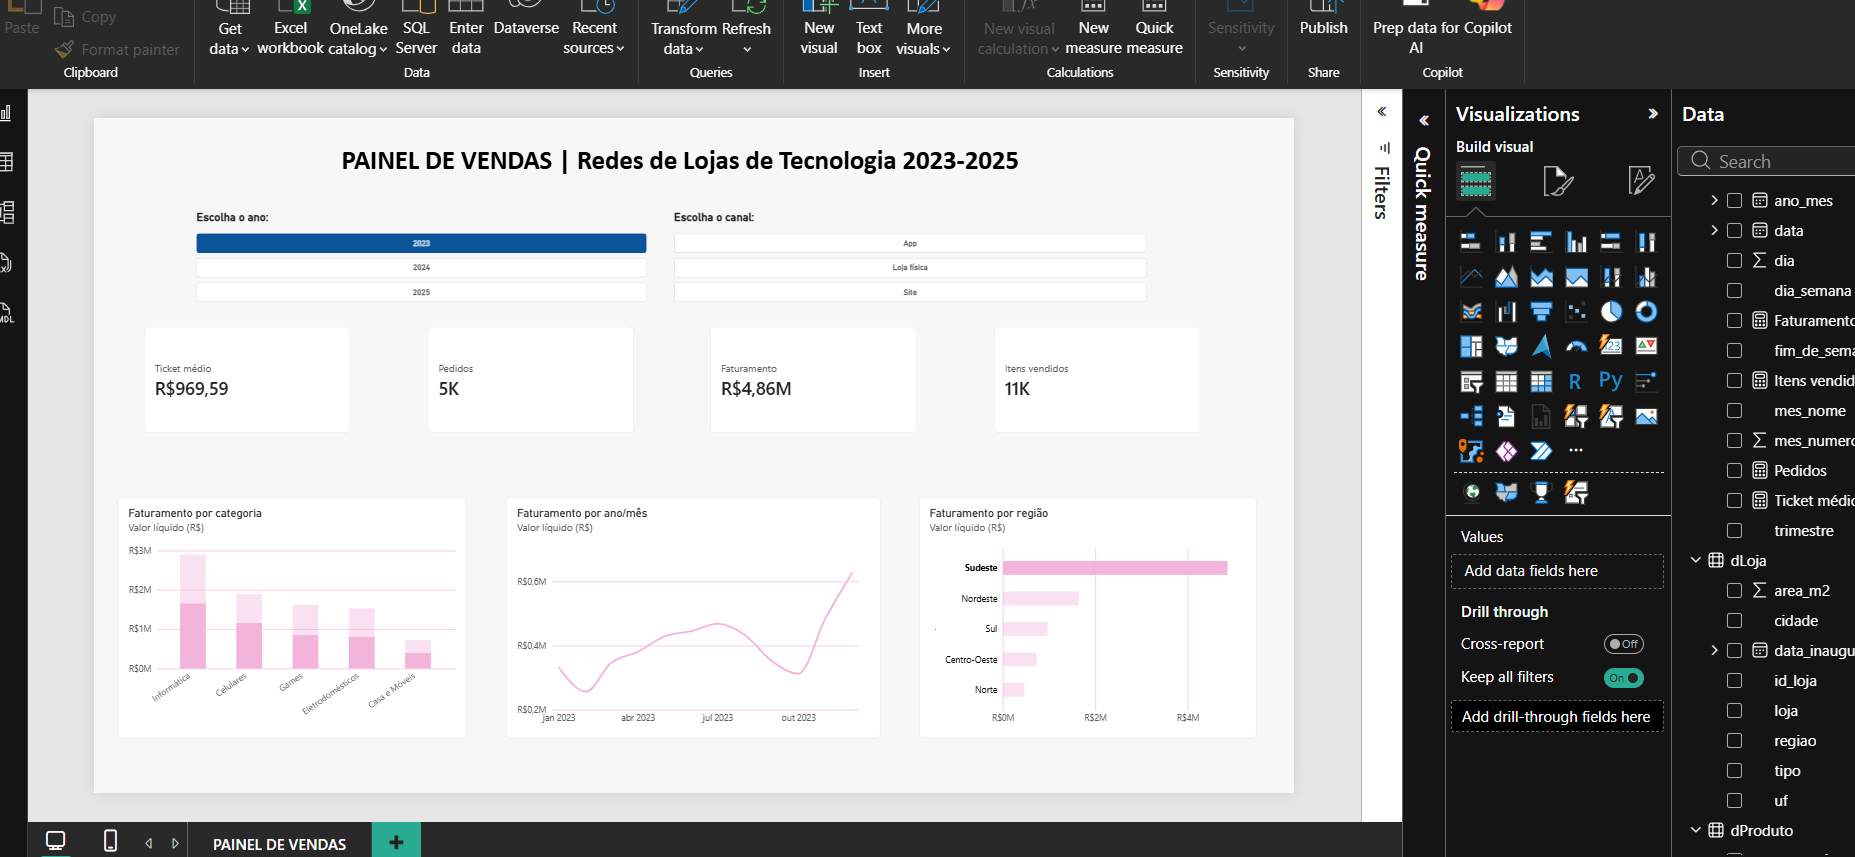

The page's visual inventory and layout, read from the dashboard file:
{"tool":"powerbi","page":{"name":"PAINEL DE VENDAS","canvas":[1920,1080],"ordinal":0},"visuals":[{"type":"lineChart","title":"Faturamento por ano/mês ","fields":{"Category":["dCalendário.ano_mes"],"Y":["dCalendário.Faturamento"]},"box":[659,606,598,386],"z":0},{"type":"cardVisual","fields":{"Data":["dCalendário.Faturamento"]},"box":[986.7,334,330,170],"z":1},{"type":"cardVisual","fields":{"Data":["dCalendário.Pedidos"]},"box":[533.3,334,330,170],"z":2},{"type":"cardVisual","fields":{"Data":["dCalendário.Ticket médio"]},"box":[80,334,330,170],"z":3},{"type":"cardVisual","fields":{"Data":["dCalendário.Itens vendidos"]},"box":[1440,334,330,170],"z":4},{"type":"clusteredColumnChart","title":"Faturamento por categoria","fields":{"Category":["dProduto.categoria"],"Y":["dCalendário.Faturamento"]},"box":[38,606,558,386],"z":5},{"type":"clusteredBarChart","title":"Faturamento por região","fields":{"Category":["dLoja.regiao"],"Y":["dCalendário.Faturamento"]},"box":[1320,606,540,386],"z":6},{"type":"advancedSlicerVisual","fields":{"Values":["dCalendário.ano"]},"box":[164,148,720,148],"z":7},{"type":"textbox","box":[396,40,1374,62],"z":9},{"type":"advancedSlicerVisual","fields":{"Values":["fVendas.canal"]},"box":[928,148,756,148],"z":10}]}

Visuals, with their boxes on the page's 1920x1080 design canvas (x1, y1, x2, y2). These are canvas units, not pixel positions in the 1855x857 screenshot, which may show the page scaled, cropped or inside an application window:
"Faturamento por ano/mês " lineChart: detection(659, 606, 1257, 992)
cardVisual - dCalendário.Faturamento: detection(987, 334, 1317, 504)
cardVisual - dCalendário.Pedidos: detection(533, 334, 863, 504)
cardVisual - dCalendário.Ticket médio: detection(80, 334, 410, 504)
cardVisual - dCalendário.Itens vendidos: detection(1440, 334, 1770, 504)
"Faturamento por categoria" clusteredColumnChart: detection(38, 606, 596, 992)
"Faturamento por região" clusteredBarChart: detection(1320, 606, 1860, 992)
advancedSlicerVisual - dCalendário.ano: detection(164, 148, 884, 296)
textbox: detection(396, 40, 1770, 102)
advancedSlicerVisual - fVendas.canal: detection(928, 148, 1684, 296)
